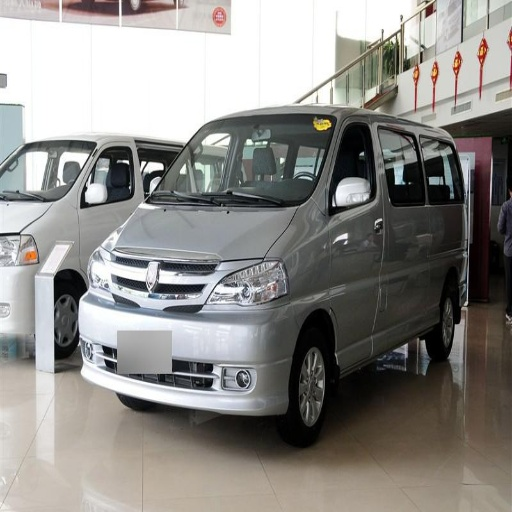front_bumper: (79, 251, 301, 411)
front_glass: (147, 115, 334, 209)
front_left_door: (327, 119, 408, 364)
trunk: (409, 205, 472, 296)
